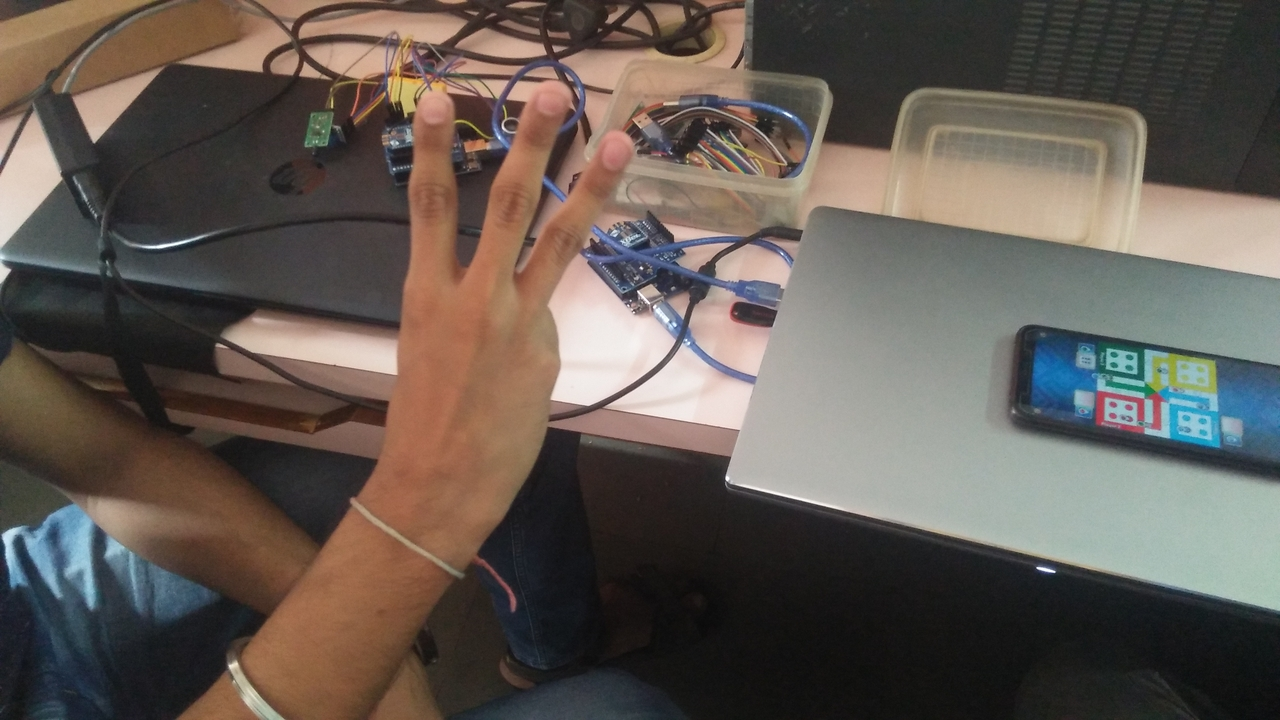fingertip: (512, 70, 582, 138), (576, 122, 644, 176), (404, 78, 456, 126)
